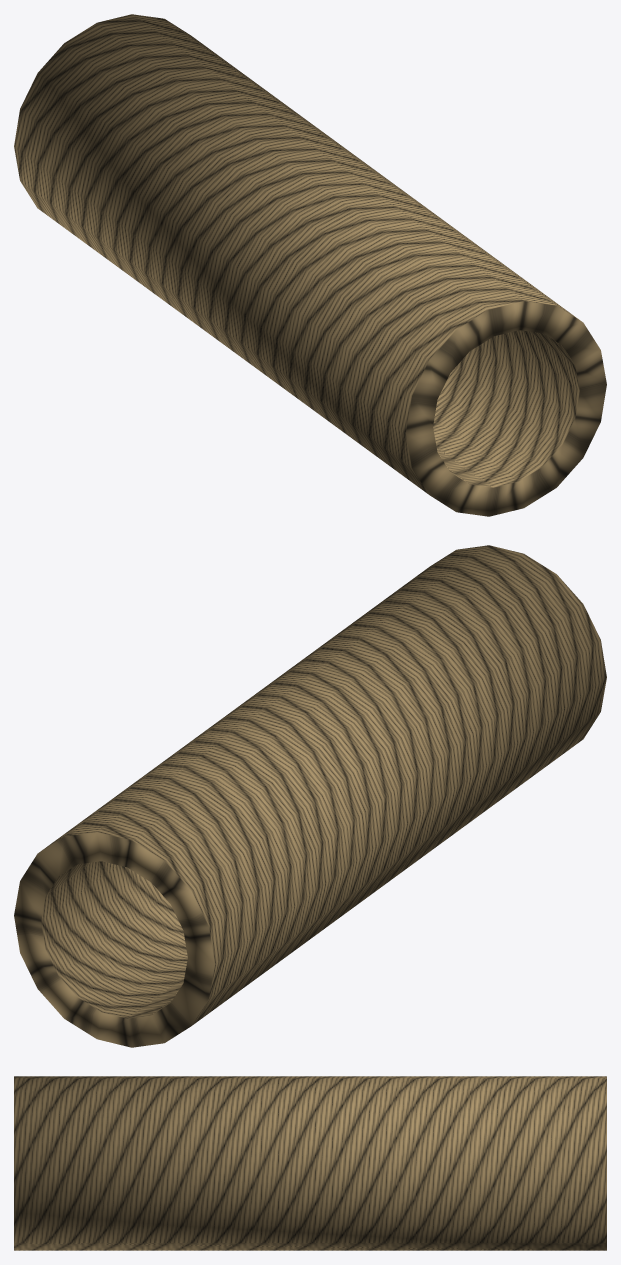
Rendered from kedi-boru.fbx.
The picture shows the model from 3 angles, top to bottom: view 1: azimuth 30°, elevation 25°; view 2: azimuth 150°, elevation 25°; view 3: azimuth 270°, elevation 25°; orthographic projection. The views are drawn at different scales.
Visible parts, largest first — view 1: Object001.001; view 2: Object001.001; view 3: Object001.001.
Boxes of the visible parts, x1,y1,x2,y2 form: Object001.001: [14, 14, 606, 516]; Object001.001: [14, 545, 606, 1047]; Object001.001: [14, 1076, 606, 1250].
Bounding box in the file's own units: 22.07 × 21.73 × 74.64.
1 material, 1 textured.
